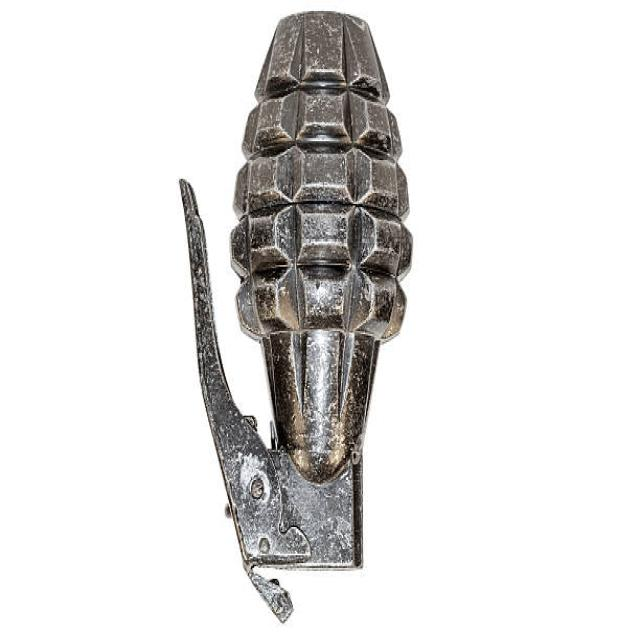grenade: (175, 5, 419, 626)
